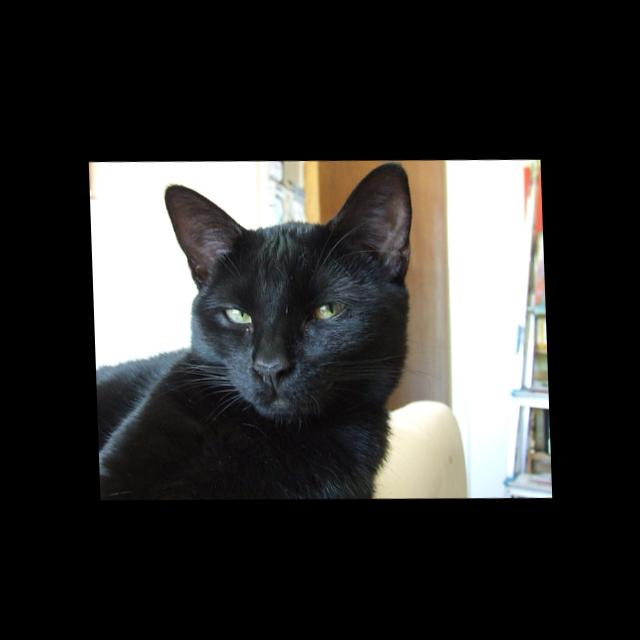animals: (168, 154, 408, 386)
